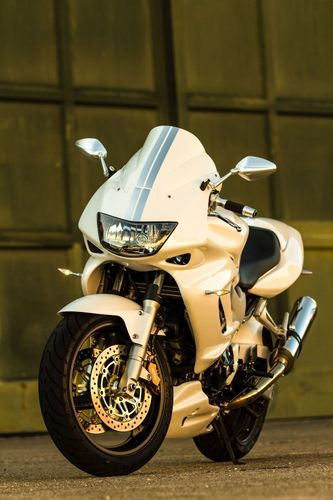摩托车: (37, 121, 322, 472)
